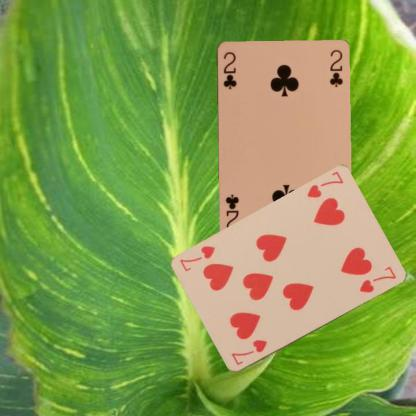2c: (220, 49, 238, 90)
7h: (304, 169, 344, 201), (229, 337, 270, 367)
